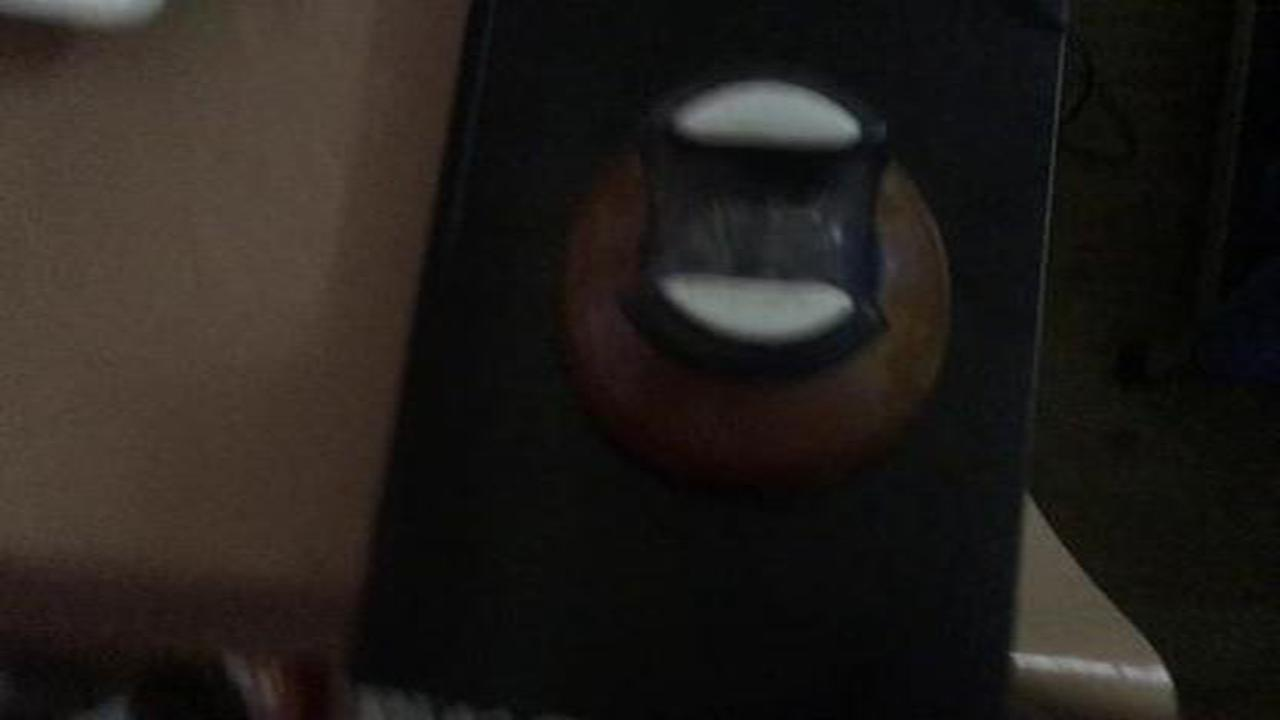insulator_pin: (539, 55, 994, 496)
